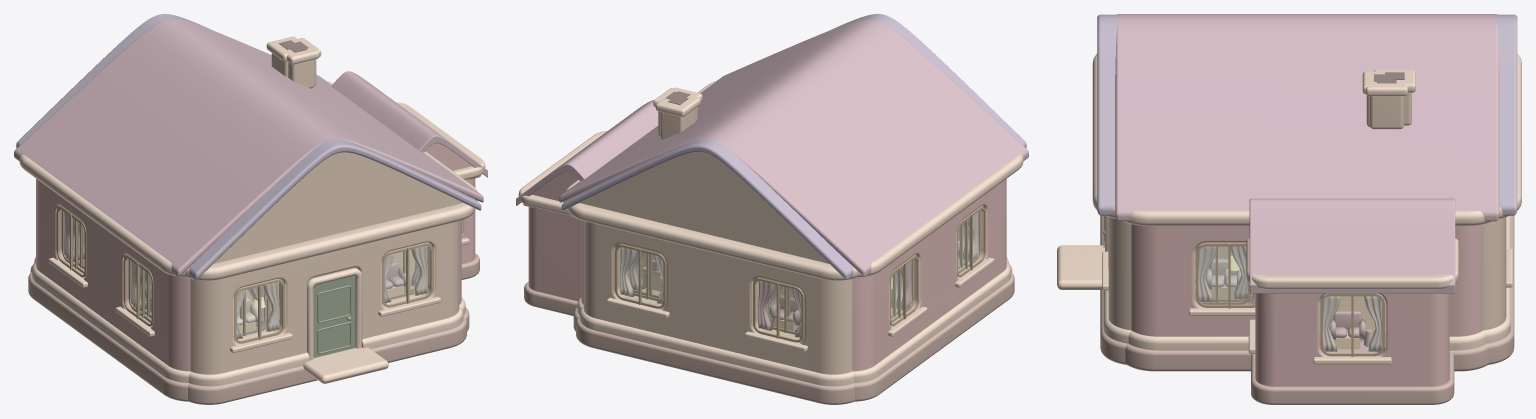
Rendered from small-island-houses-v61.glb.
3 views of the same model, side by side, from view 1: azimuth 30°, elevation 25°; view 2: azimuth 150°, elevation 25°; view 3: azimuth 270°, elevation 25° (orthographic). The views are drawn at different scales.
Visible parts, largest first — view 1: cottage-pink__house61_roof_rose, cottage-taupe__arch59_cream, cottage-taupe__arch59_pillow_trim, cottage-pink__arch59_blush, cottage-pink__arch59_pillow_trim, cottage-taupe__house61_roof_lilac, cottage-taupe__room59_glass_sage, cottage-taupe__arch59_roof_stone, cottage-annex__house61_roof_rose, cottage-pink__arch59_roof_stone, cottage-taupe__door61_sage, cottage-pink__room59_glass_sage (+9 smaller); view 2: cottage-pink__house61_roof_rose, cottage-taupe__arch59_cream, cottage-pink__arch59_blush, cottage-taupe__arch59_pillow_trim, cottage-taupe__house61_roof_lilac, cottage-pink__arch59_pillow_trim, cottage-taupe__arch59_roof_stone, cottage-annex__arch59_blush, cottage-taupe__room59_glass_sage, cottage-pink__arch59_roof_stone, cottage-annex__house61_roof_rose, cottage-pink__room59_glass_sage (+10 smaller); view 3: cottage-pink__house61_roof_rose, cottage-annex__house61_roof_rose, cottage-annex__arch59_blush, cottage-pink__arch59_blush, cottage-taupe__house61_roof_lilac, cottage-pink__arch59_pillow_trim, cottage-taupe__arch59_pillow_trim, cottage-taupe__arch59_cream, cottage-annex__arch59_pillow_trim, cottage-annex__arch59_roof_stone, cottage-pink__arch59_roof_stone, cottage-annex__room59_glass_sage (+10 smaller).
Part boxes in pixels (left/top/right/bottom): cottage-pink__house61_roof_rose: left=14, top=19, right=483, bottom=276; cottage-taupe__arch59_cream: left=84, top=53, right=462, bottom=374; cottage-taupe__arch59_pillow_trim: left=34, top=36, right=475, bottom=386; cottage-pink__arch59_blush: left=36, top=178, right=461, bottom=371; cottage-pink__arch59_pillow_trim: left=19, top=38, right=477, bottom=382; cottage-taupe__house61_roof_lilac: left=16, top=14, right=481, bottom=279; cottage-taupe__room59_glass_sage: left=235, top=243, right=432, bottom=343; cottage-taupe__arch59_roof_stone: left=30, top=263, right=466, bottom=404; cottage-annex__house61_roof_rose: left=331, top=71, right=487, bottom=177; cottage-pink__arch59_roof_stone: left=28, top=272, right=469, bottom=401; cottage-taupe__door61_sage: left=313, top=276, right=355, bottom=357; cottage-pink__room59_glass_sage: left=59, top=206, right=152, bottom=326; cottage-pink__house61_roof_rose: left=559, top=19, right=1028, bottom=276; cottage-taupe__arch59_cream: left=580, top=108, right=892, bottom=374; cottage-pink__arch59_blush: left=581, top=179, right=1006, bottom=371; cottage-taupe__arch59_pillow_trim: left=567, top=95, right=1008, bottom=386; cottage-taupe__house61_roof_lilac: left=561, top=14, right=1026, bottom=279; cottage-pink__arch59_pillow_trim: left=565, top=81, right=1023, bottom=382; cottage-taupe__arch59_roof_stone: left=576, top=263, right=1012, bottom=404; cottage-annex__arch59_blush: left=523, top=171, right=964, bottom=301; cottage-taupe__room59_glass_sage: left=615, top=245, right=802, bottom=342; cottage-pink__arch59_roof_stone: left=573, top=272, right=1014, bottom=401; cottage-annex__house61_roof_rose: left=516, top=99, right=658, bottom=205; cottage-pink__room59_glass_sage: left=890, top=206, right=983, bottom=326; cottage-pink__house61_roof_rose: left=1115, top=14, right=1499, bottom=221; cottage-annex__house61_roof_rose: left=1249, top=198, right=1455, bottom=293; cottage-annex__arch59_blush: left=1244, top=293, right=1449, bottom=386; cottage-pink__arch59_blush: left=1131, top=224, right=1483, bottom=336; cottage-taupe__house61_roof_lilac: left=1097, top=14, right=1517, bottom=215; cottage-pink__arch59_pillow_trim: left=1080, top=84, right=1490, bottom=350; cottage-taupe__arch59_pillow_trim: left=1057, top=54, right=1521, bottom=343; cottage-taupe__arch59_cream: left=1108, top=92, right=1506, bottom=330; cottage-annex__arch59_pillow_trim: left=1087, top=71, right=1458, bottom=364; cottage-annex__arch59_roof_stone: left=1251, top=352, right=1454, bottom=404; cottage-pink__arch59_roof_stone: left=1125, top=343, right=1489, bottom=371; cottage-annex__room59_glass_sage: left=1320, top=295, right=1383, bottom=352.
Size of the model in its own units: 11.1 by 6.57 by 10.29.
